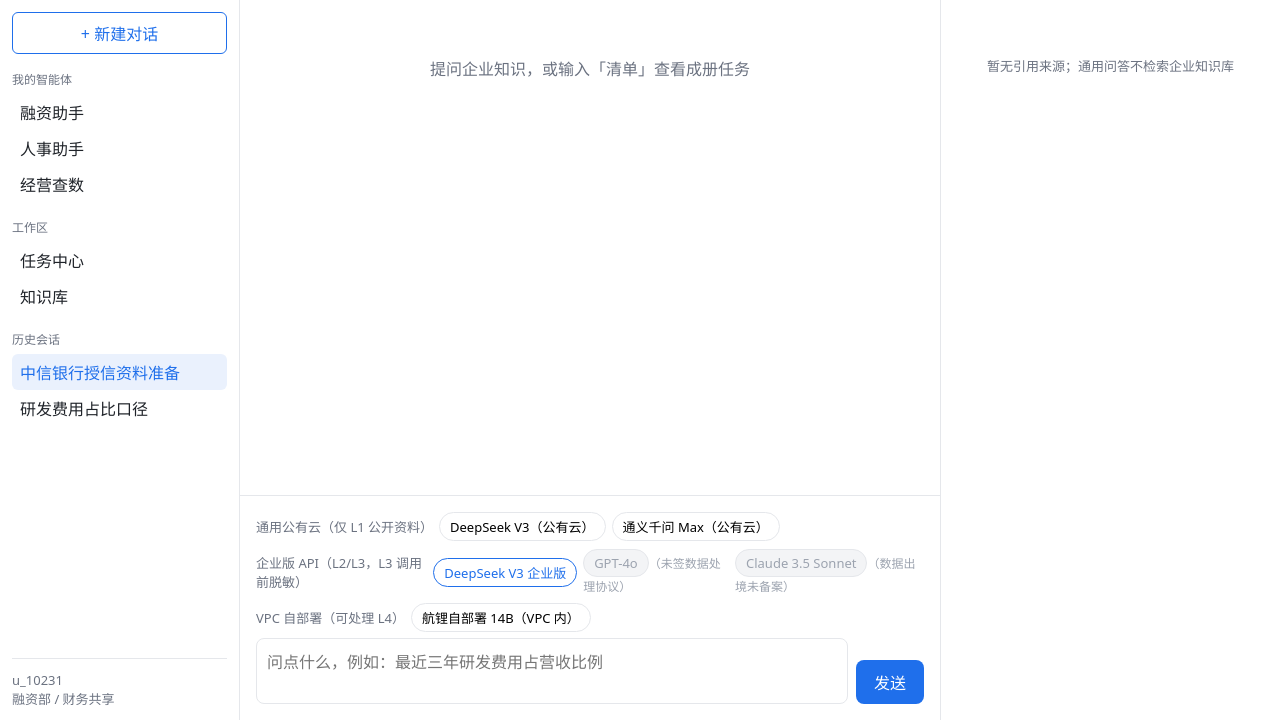
Test case: 路由三态 › enterprise：带 principal/X-User-Id 发 full 检索，片段进 prompt，再经网关生成
The image size is (1280, 720).
Expected: the text "u_10231" is shown, [12,671,63,689]
Type "最近三年研发费用占营收比例" into the text box named "输入问题".
click(552, 671); type("最近三年研发费用占营收比例")  # box [256,638,848,704]
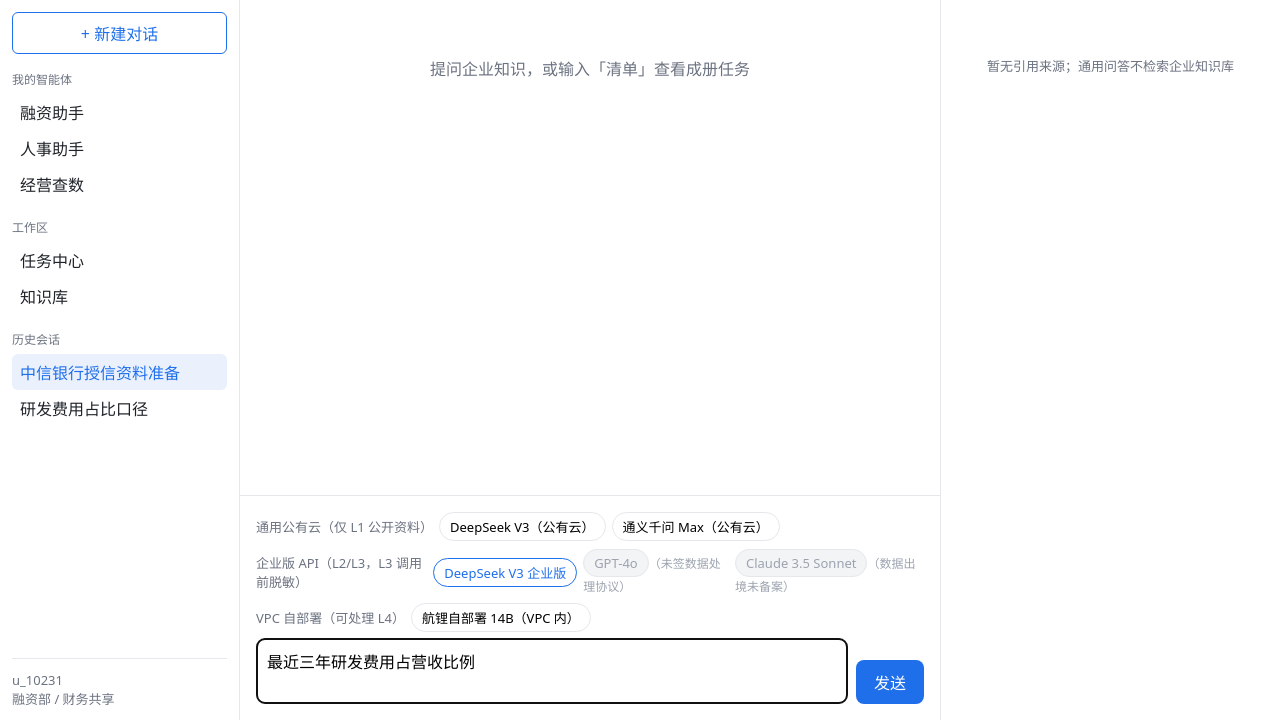
Click the button "发送".
click(890, 682)  # box [856,660,924,704]
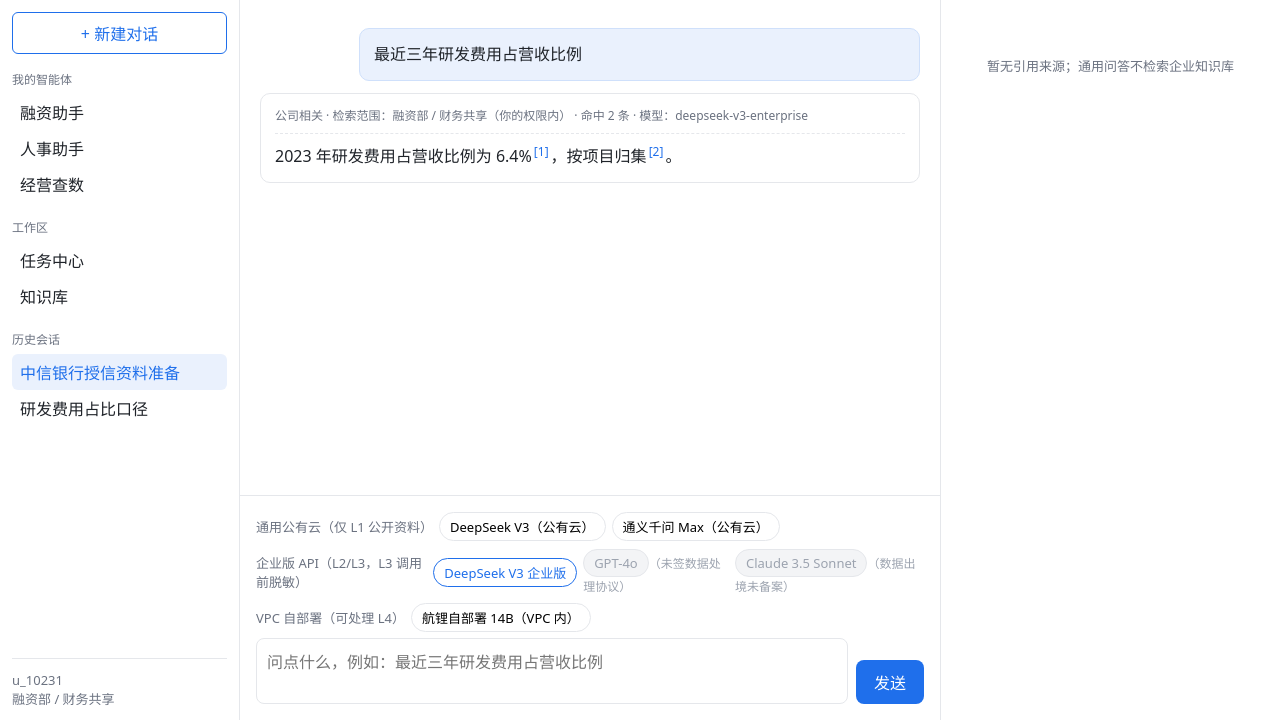
Expected: the text "u_10231" is shown, [12,671,63,689]
Expected: the element with test id "answer-text" reads "2023 年研发费用占营收比例为 6.4% [1] ，按项目归集 [2] 。", [275,142,681,167]
